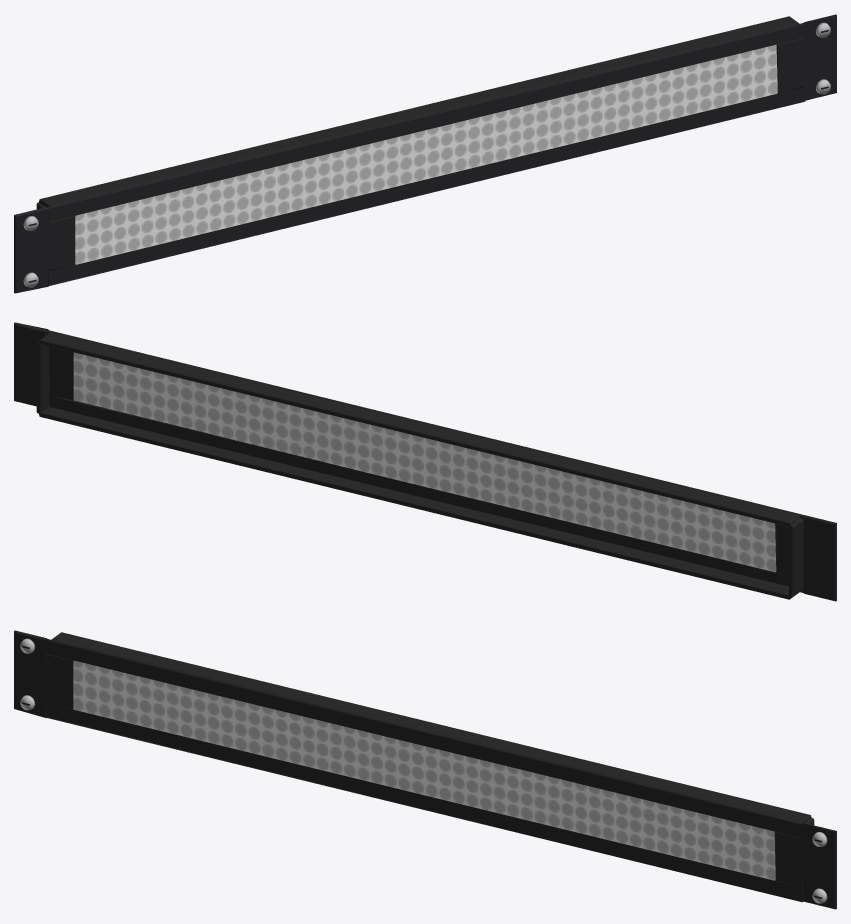
File: BLANK-1U-VENTED.glb
The picture shows the model from 3 angles, top to bottom: view 1: azimuth 30°, elevation 25°; view 2: azimuth 150°, elevation 25°; view 3: azimuth 330°, elevation 25°; orthographic projection.
Parts seen in each view (by area): view 1: BLANK-1U-VENTED, BLANK-1U-VENTED:screws; view 2: BLANK-1U-VENTED; view 3: BLANK-1U-VENTED, BLANK-1U-VENTED:screws.
Part boxes in pixels (bbox=[...]): BLANK-1U-VENTED: bbox=[14, 14, 836, 293]; BLANK-1U-VENTED:screws: bbox=[23, 22, 830, 287]; BLANK-1U-VENTED: bbox=[14, 322, 836, 601]; BLANK-1U-VENTED: bbox=[14, 630, 836, 909]; BLANK-1U-VENTED:screws: bbox=[20, 638, 827, 903].
Size of the model in its own units: 0.4826 by 0.0447 by 0.0145.
4 materials, 1 textured.
